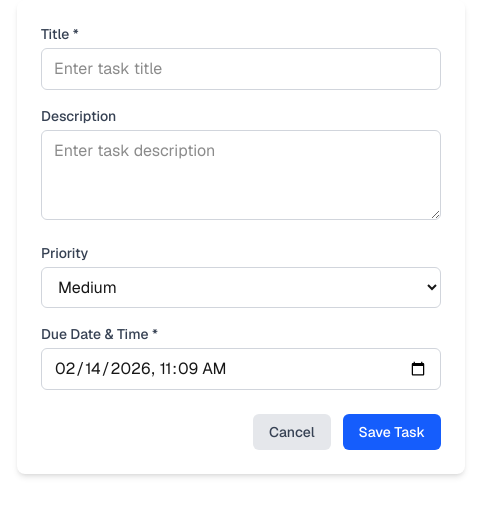
it: TaskForm › validates required fields
Click the button "Save Task". click: x=392, y=432
box: [343,414,441,450]
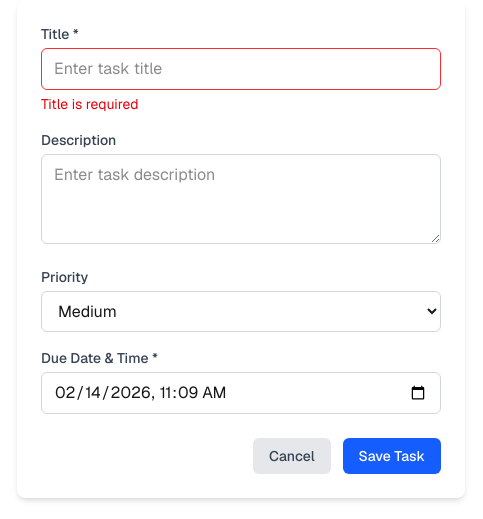
Now the text "Title is required" is shown, box [41,95,139,113]
